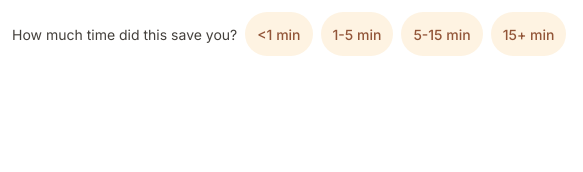
TimeSavedFeedback › after a vote, thanks the user and asks for a review linking to /reviews
Click the button "5-15 min". click: [442, 34]
box: [401, 12, 483, 56]
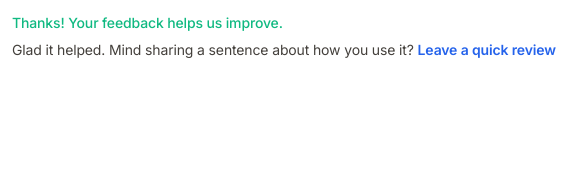
Check: the text "Thanks! Your feedback helps us improve." is shown, box [12, 14, 283, 31]
